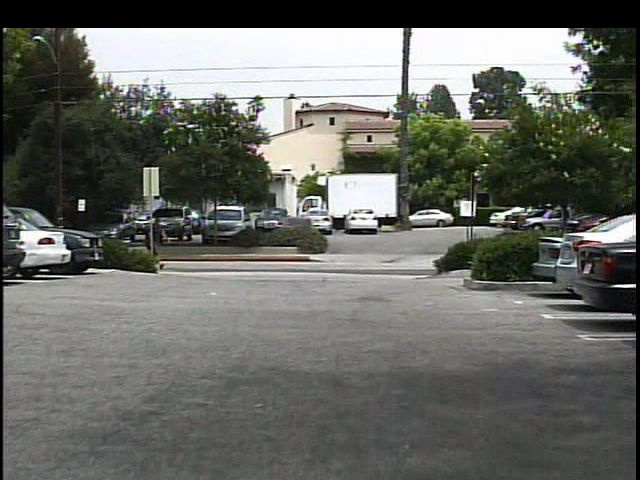person: (146, 215, 172, 275)
